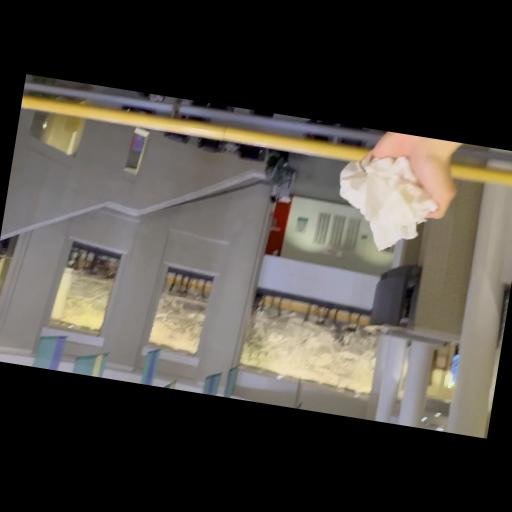napkin: (324, 144, 446, 262)
